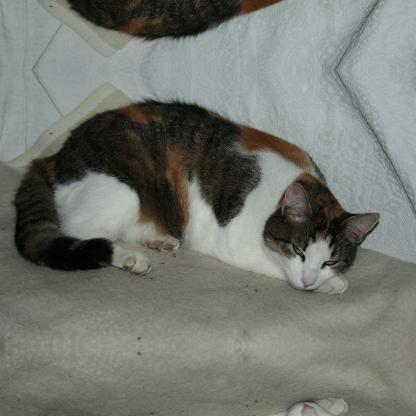Cat: (13, 94, 381, 298), (13, 0, 382, 45)
